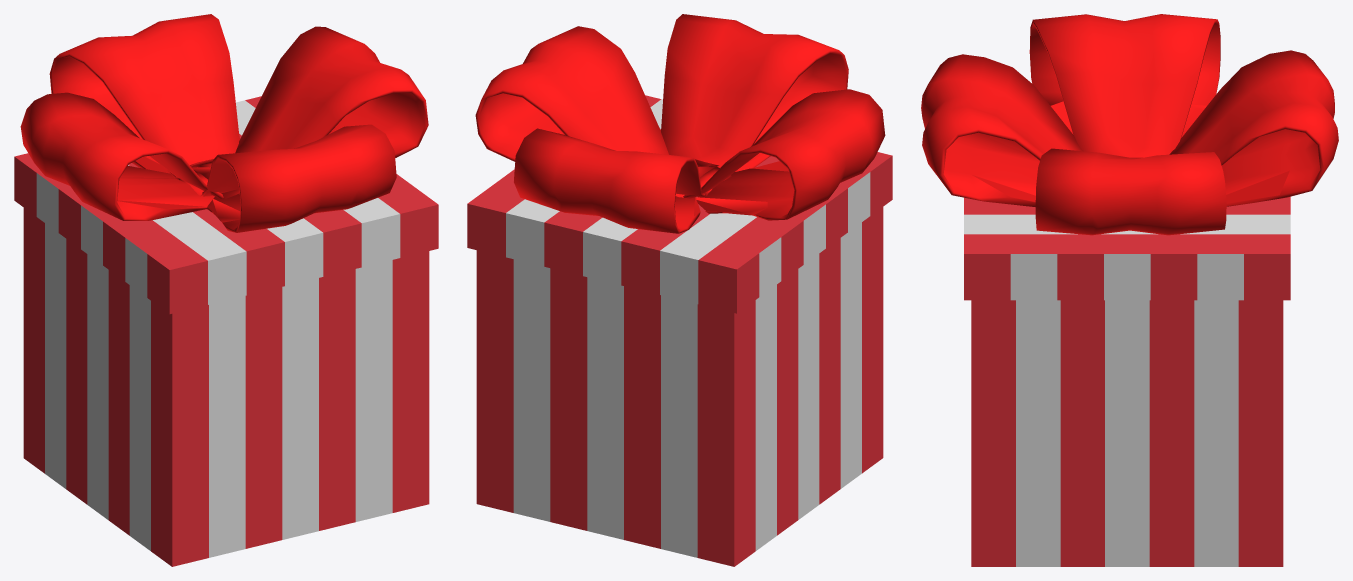
The model's file is Gift box .fbx.
3 renders of one model, left to right at view 1: azimuth 30°, elevation 25°; view 2: azimuth 150°, elevation 25°; view 3: azimuth 270°, elevation 25°, orthographic. The views are drawn at different scales.
Visible parts, largest first — view 1: Cube.012, Object_2.001; view 2: Cube.012, Object_2.001; view 3: Cube.012, Object_2.001.
Boxes of the visible parts, x1,y1,x2,y2 form: Cube.012: [14, 96, 438, 566]; Object_2.001: [20, 14, 428, 232]; Cube.012: [467, 95, 892, 566]; Object_2.001: [475, 14, 885, 233]; Cube.012: [964, 196, 1290, 566]; Object_2.001: [921, 14, 1338, 235].
Size of the model in its own units: 807 by 876 by 809.
